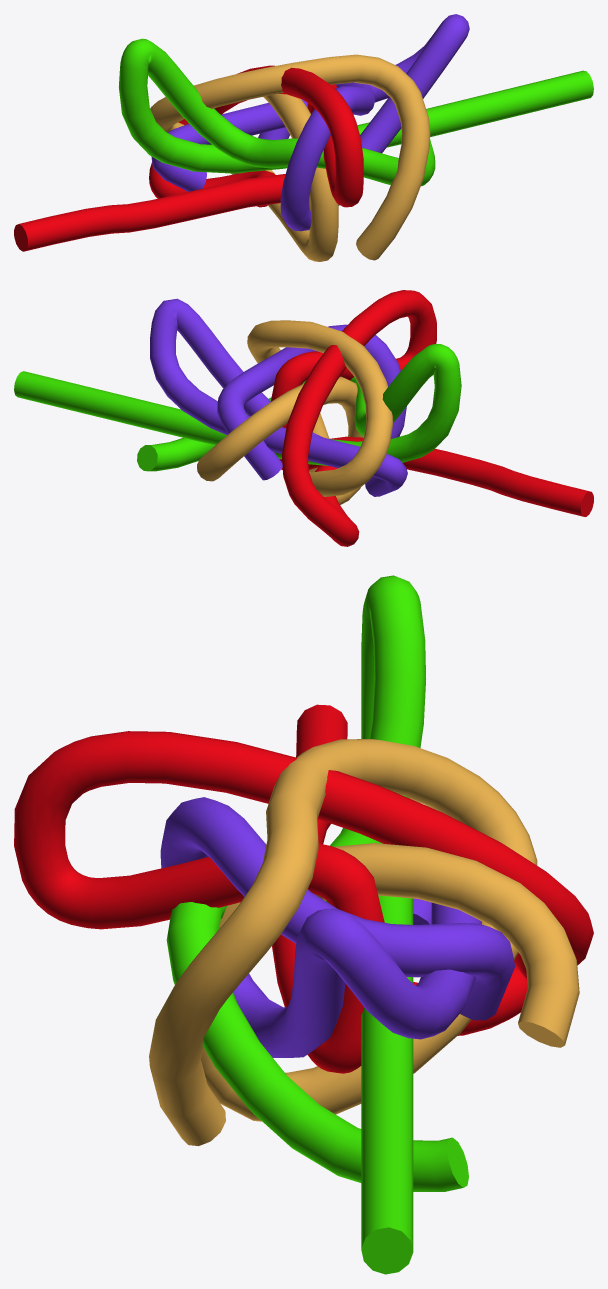
Rendered from cable.fbx.
3 renders of one model, top to bottom at view 1: azimuth 30°, elevation 25°; view 2: azimuth 150°, elevation 25°; view 3: azimuth 270°, elevation 25°, orthographic. The views are drawn at different scales.
Parts seen in each view (by area): view 1: Cable, Cable.003, Cable.002, Cable.001; view 2: Cable.002, Cable.001, Cable, Cable.003; view 3: Cable.003, Cable.002, Cable, Cable.001.
Boxes of the visible parts, bbox=[...] form: Cable: bbox=[119, 38, 593, 186]; Cable.003: bbox=[150, 54, 430, 261]; Cable.002: bbox=[14, 65, 363, 251]; Cable.001: bbox=[151, 14, 469, 231]; Cable.002: bbox=[270, 290, 593, 546]; Cable.001: bbox=[150, 298, 407, 496]; Cable: bbox=[14, 344, 461, 471]; Cable.003: bbox=[197, 320, 393, 504]; Cable.003: bbox=[149, 739, 579, 1146]; Cable.002: bbox=[14, 704, 593, 1073]; Cable: bbox=[166, 575, 468, 1274]; Cable.001: bbox=[160, 797, 515, 1057].
Size of the model in its own units: 33.18 by 12.36 by 15.66.
